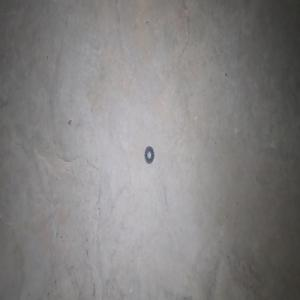Washer: (144, 145, 154, 164)
